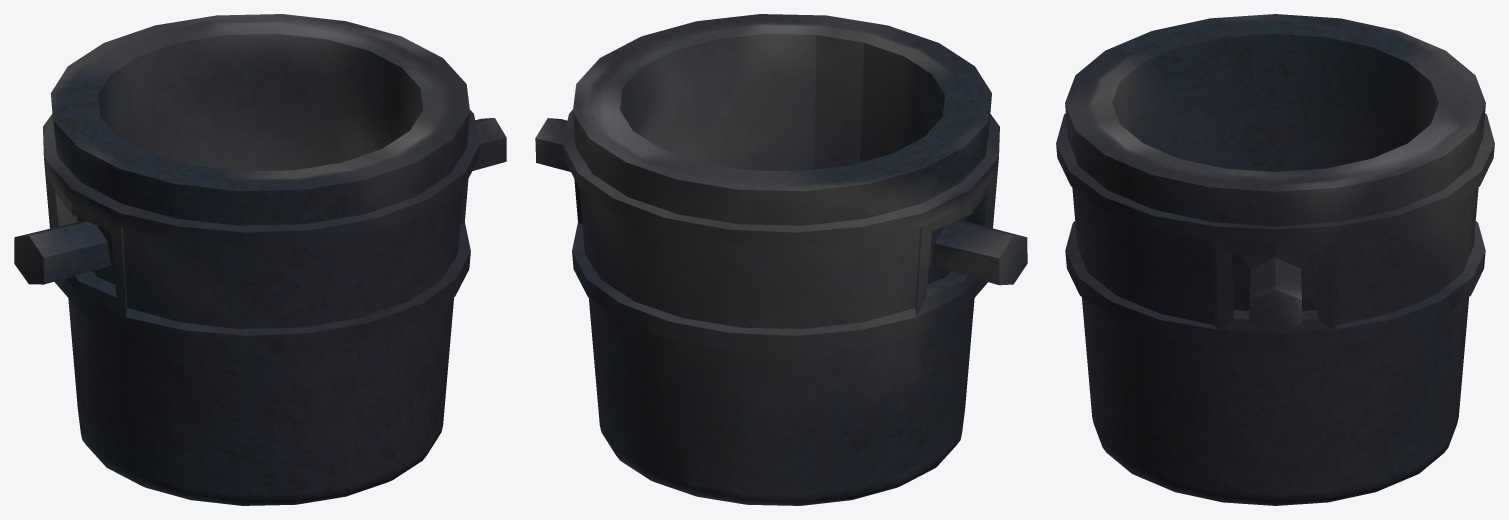
File: crucible_object.fbx
3 views of the same model, side by side, from view 1: azimuth 30°, elevation 25°; view 2: azimuth 150°, elevation 25°; view 3: azimuth 270°, elevation 25° (orthographic).
Visible parts, largest first — view 1: pCylinder1; view 2: pCylinder1; view 3: pCylinder1.
Boxes of the visible parts, x1,y1,x2,y2 form: pCylinder1: (14,14,506,505); pCylinder1: (535,14,1027,505); pCylinder1: (1056,14,1494,505).
Bounding box in the file's own units: 4.4 × 3 × 3.59.
1 material, 1 textured.
